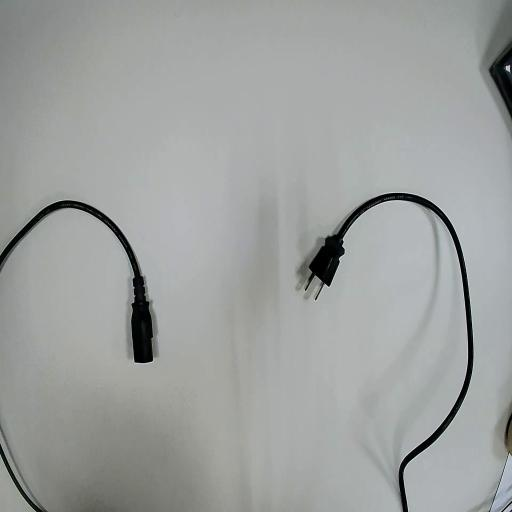wire: (309, 194, 472, 511), (0, 201, 152, 361)
